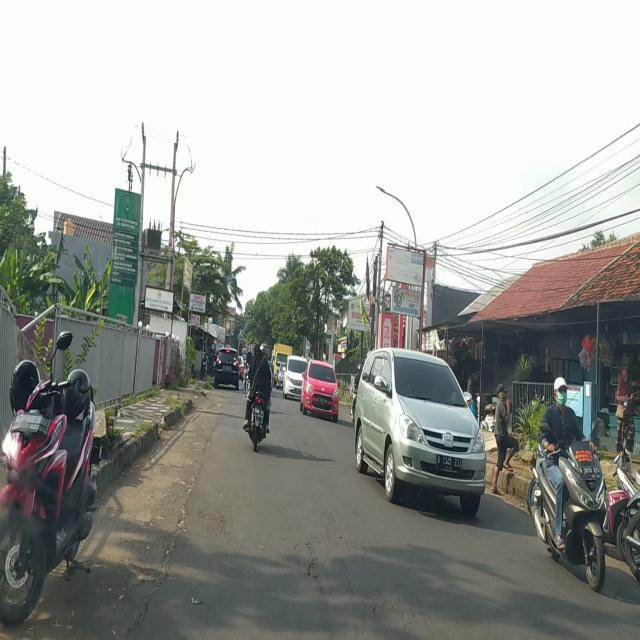Drain Hole: (304, 537, 438, 640)
